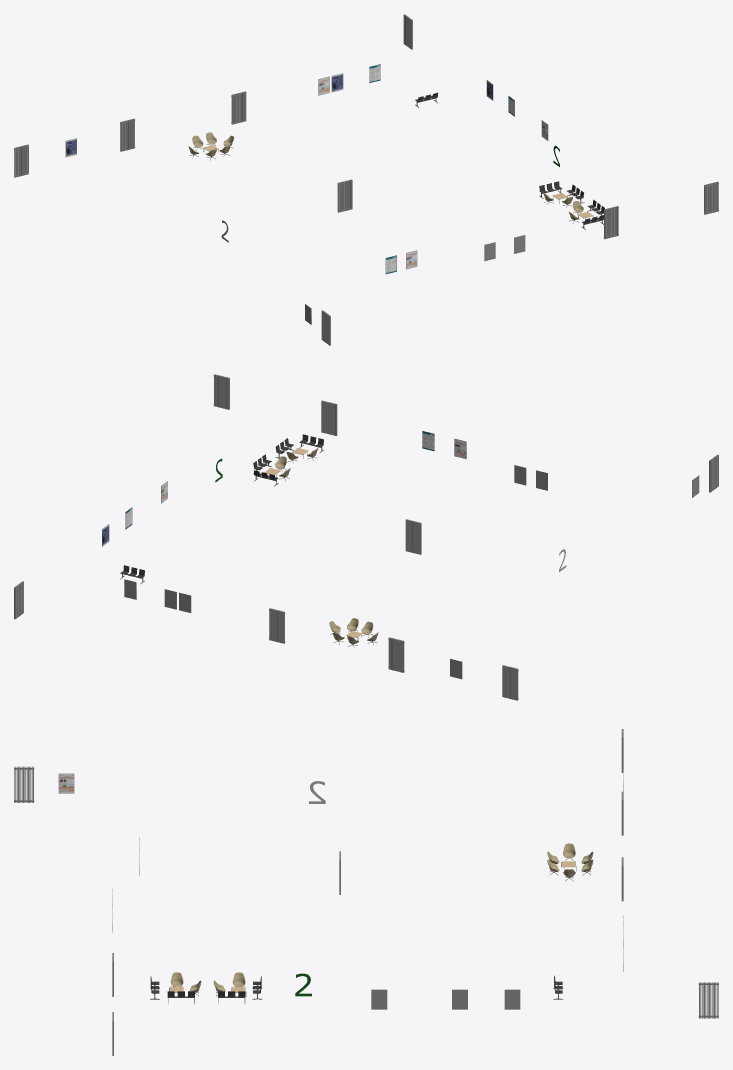
The model's file is 2311B_L2_FRNTR_12.fbx.
The picture shows the model from 3 angles, top to bottom: view 1: azimuth 30°, elevation 25°; view 2: azimuth 150°, elevation 25°; view 3: azimuth 270°, elevation 25°; orthographic projection. The views are drawn at different scales.
Parts seen in each view (by area): view 1: no part large enough to name; view 2: LEVEL2_FURNITURE_00, LEVEL2_FURNITURE_03, LEVEL2_FURNITURE_05, LEVEL2_FURNITURE_07, LEVEL2_FURNITURE_01, LEVEL2_FURNITURE_04; view 3: LEVEL2_FURNITURE_02, LEVEL2_FURNITURE_06.
Boxes of the visible parts, left/top/right/bottom form: LEVEL2_FURNITURE_00: left=502, top=665, right=518, bottom=700; LEVEL2_FURNITURE_03: left=405, top=519, right=421, bottom=554; LEVEL2_FURNITURE_05: left=321, top=400, right=337, bottom=435; LEVEL2_FURNITURE_07: left=388, top=637, right=404, bottom=672; LEVEL2_FURNITURE_01: left=269, top=608, right=285, bottom=643; LEVEL2_FURNITURE_04: left=213, top=374, right=229, bottom=409; LEVEL2_FURNITURE_02: left=698, top=982, right=718, bottom=1018; LEVEL2_FURNITURE_06: left=14, top=766, right=34, bottom=802.
Size of the model in its own units: 3869 by 3952 by 231.
15 materials, 3 textured.
